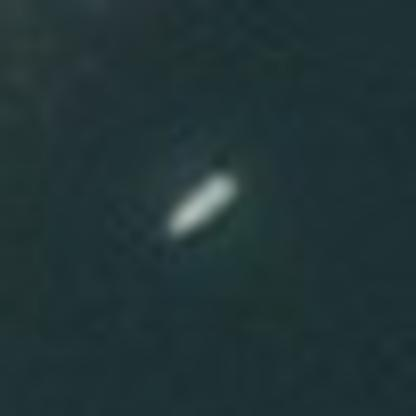ship: (152, 158, 249, 248)
